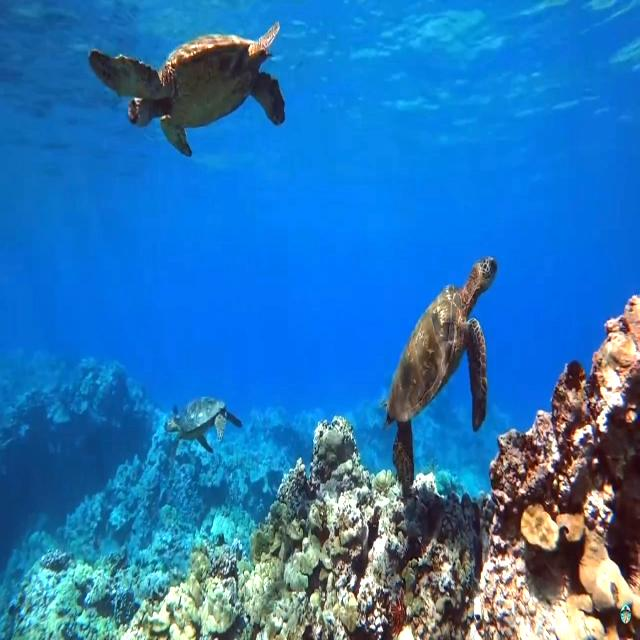Sea turtle: (84, 23, 294, 154)
